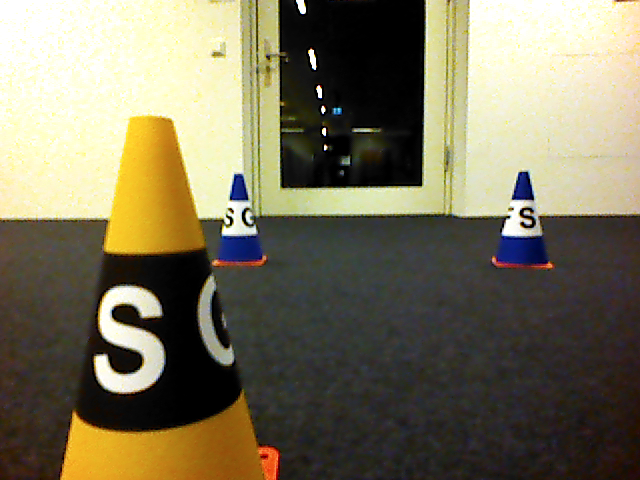bluecone: (489, 171, 555, 270), (211, 173, 270, 268)
